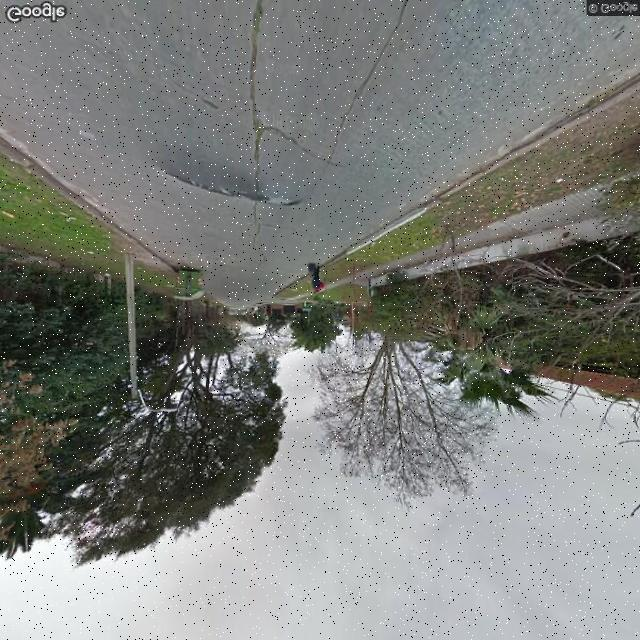garbage container: (161, 259, 212, 309)
